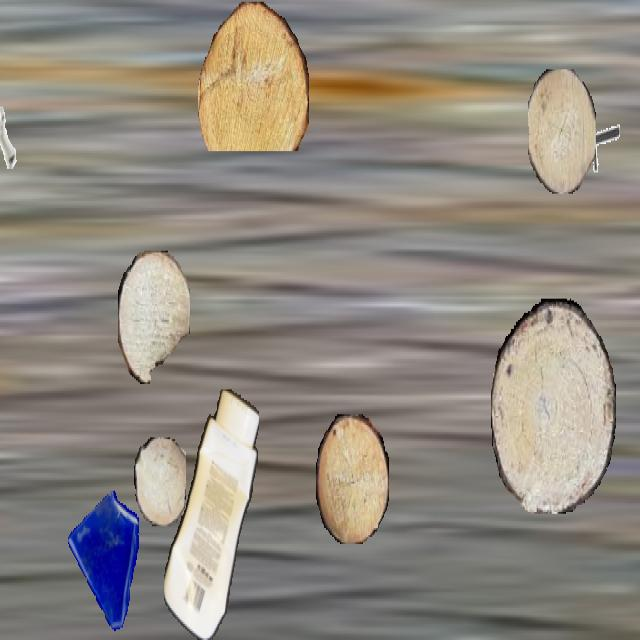glass: (64, 489, 148, 638)
metal: (0, 92, 30, 185), (582, 108, 620, 176)
plastic: (164, 390, 258, 638)
wood: (491, 299, 615, 512), (198, 2, 308, 151), (118, 251, 190, 382), (316, 414, 388, 542), (528, 69, 596, 194), (134, 438, 186, 526)
